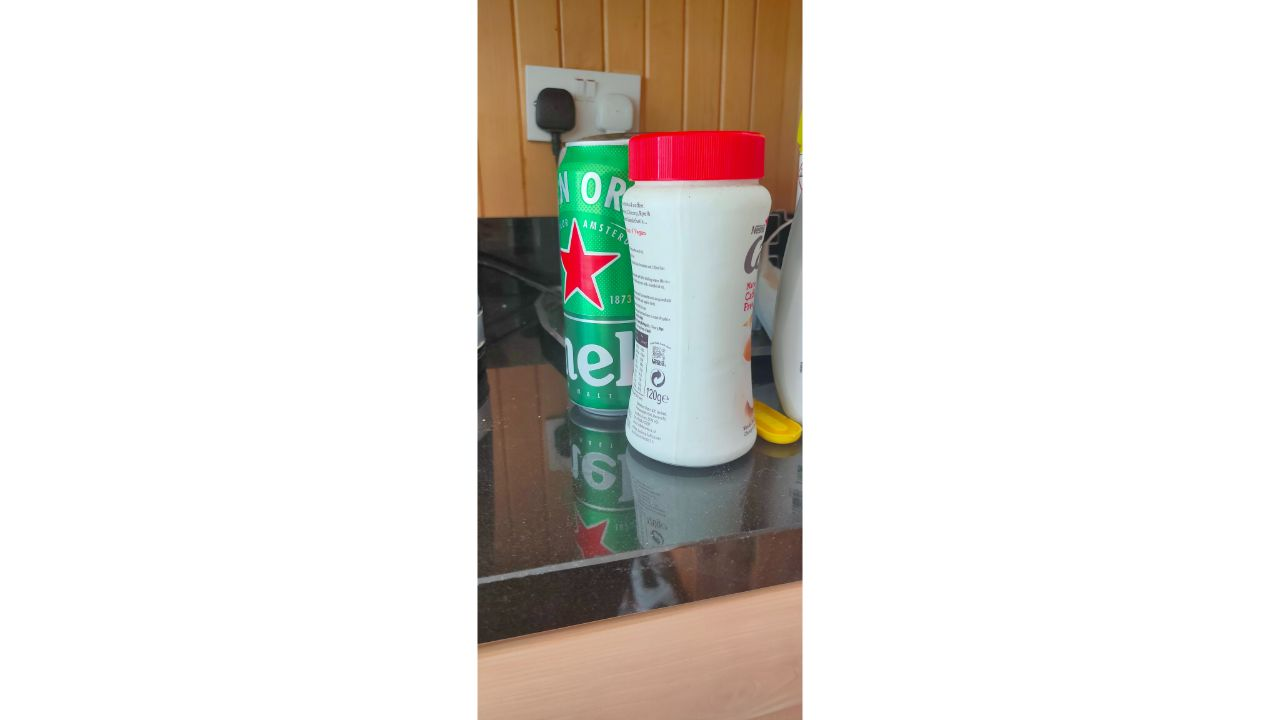Can: (557, 138, 648, 424)
